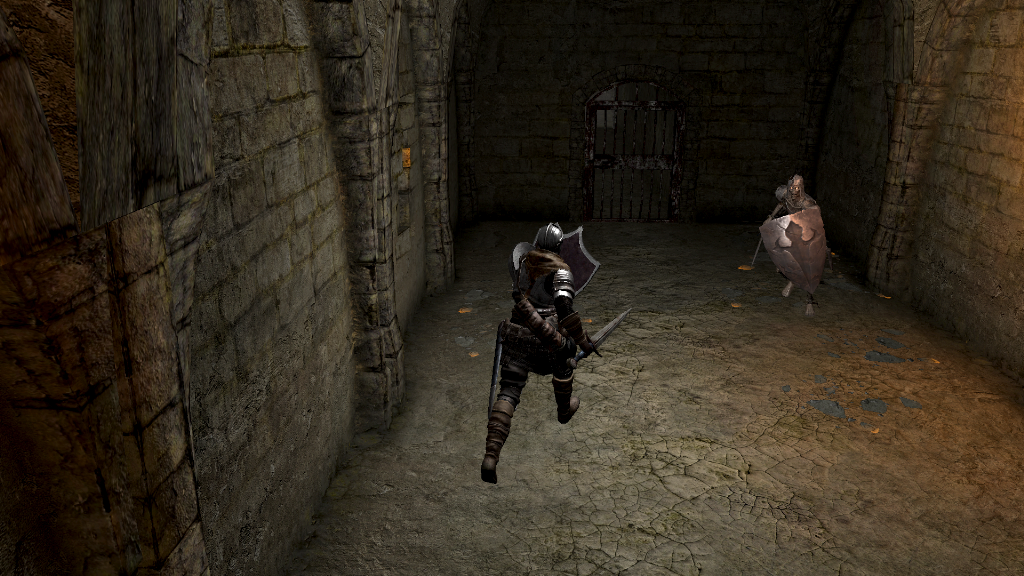player: (478, 216, 635, 482)
undeadSoldier: (758, 172, 828, 317)
